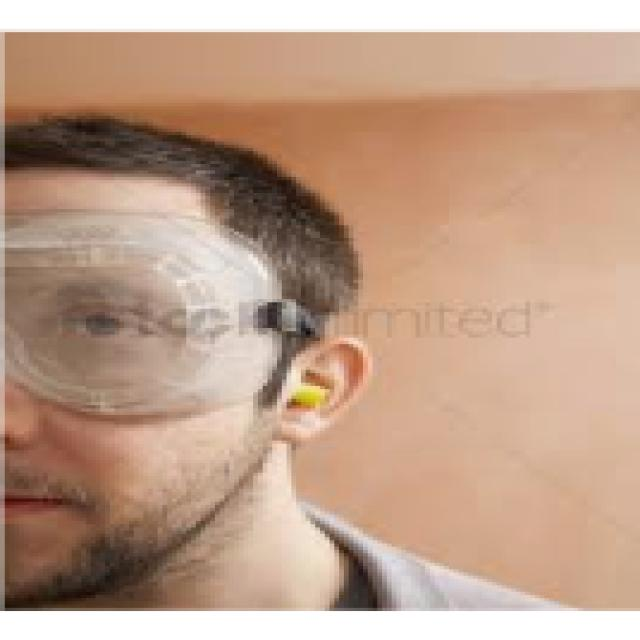glasses: (0, 195, 309, 432)
